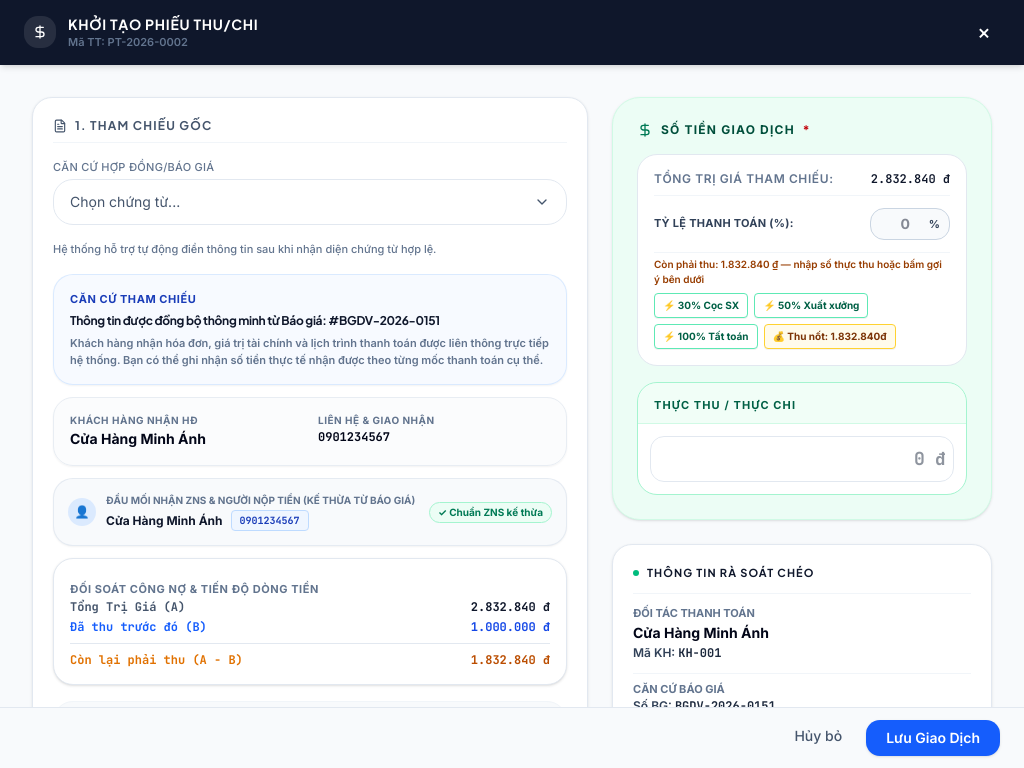
Test: PaymentRecordDrawer - Zero-Effect Financial Orchestrator (APW-ZFO) › phiếu MỚI từ báo giá đã có một phiếu thu (thu một phần): mở ở "Chưa TT", số tiền trống, "Còn phải thu" đã trừ phần đã thu; nhập số còn lại thì mới ra "Tất toán"
This screenshot has width=1024, height=768.
Expected: the text with test id "con-phai-thu" reads "Còn phải thu: 1.832.840 ₫ — nhập số thực thu hoặc bấm gợi ý bên dưới", [654,256,950,286]
Type "1832840" into the field with placeholder "0 đ" at (802, 458), box [650,436,954,482]
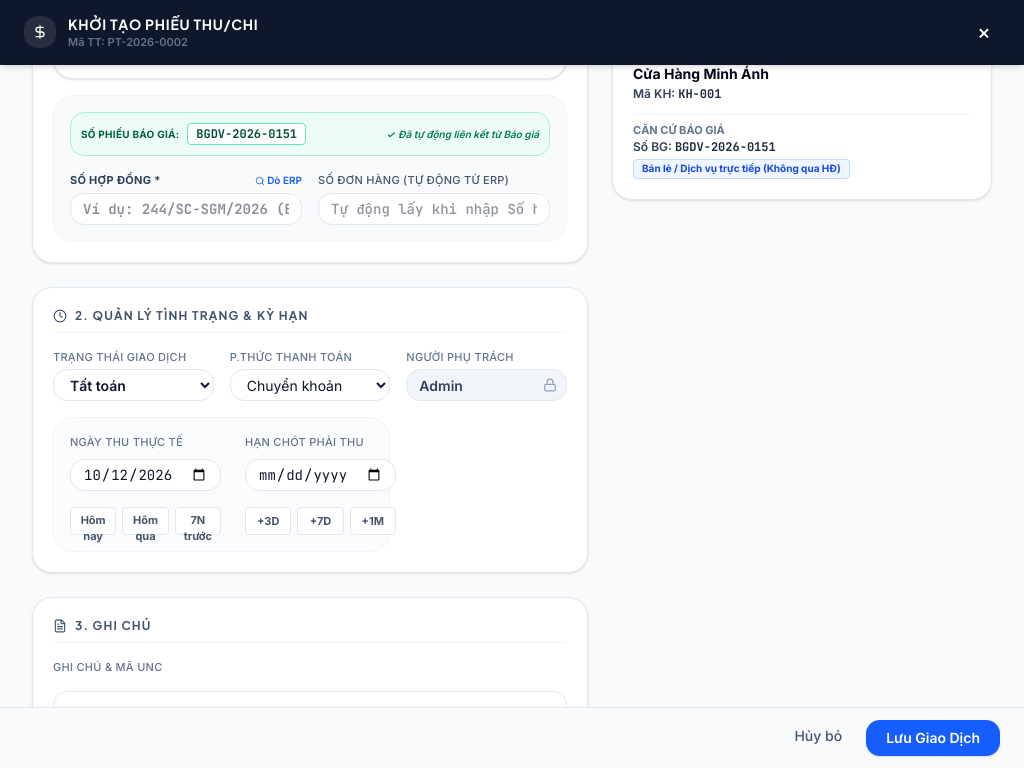
Result: the dropdown named "Tình trạng thanh toán" shows "Tất toán" at [53,369,214,401]
